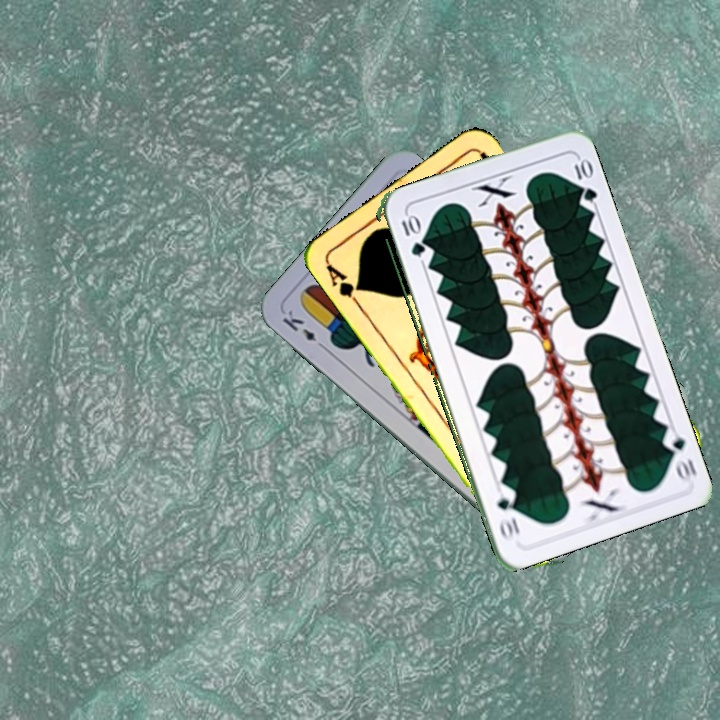EK: (278, 306, 329, 352)
G10: (658, 425, 700, 483), (397, 211, 426, 259)
GA: (321, 259, 366, 310)
